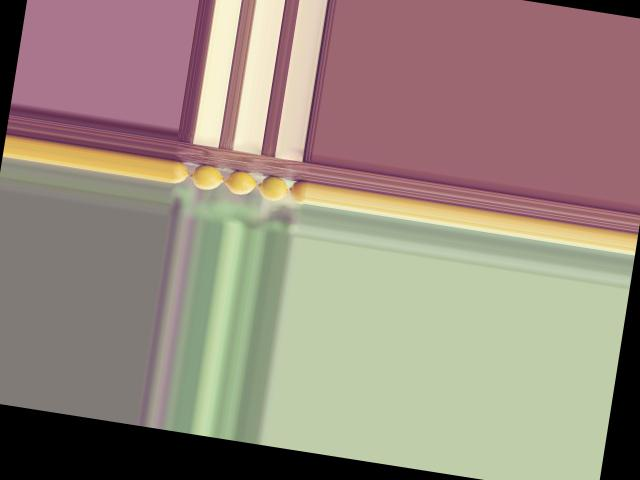lemon: (170, 161, 190, 186)
